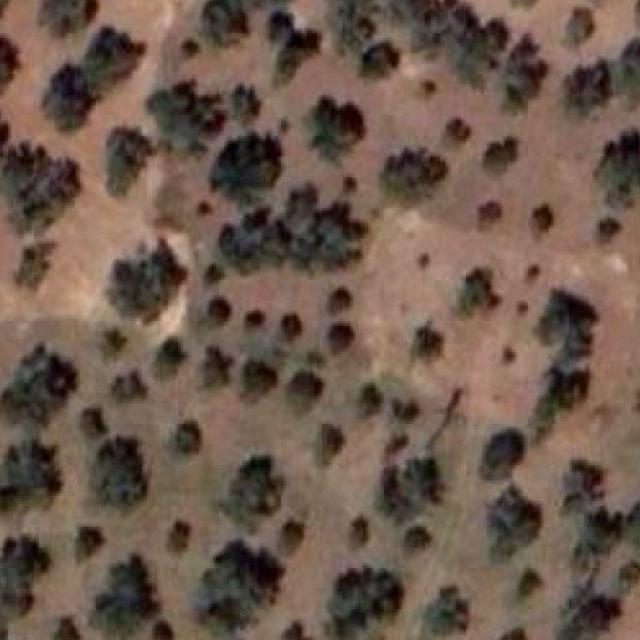Tree: (200, 180, 370, 288), (196, 540, 291, 636), (107, 234, 190, 322), (138, 77, 222, 156), (0, 342, 75, 428), (323, 566, 410, 640), (205, 123, 293, 196), (13, 154, 82, 244), (90, 555, 160, 640), (80, 438, 152, 518), (214, 457, 288, 531), (0, 537, 55, 634), (67, 18, 144, 82), (529, 290, 600, 357), (0, 439, 58, 520), (484, 488, 550, 558), (34, 74, 96, 148), (431, 18, 497, 86), (380, 146, 450, 208), (496, 38, 557, 106), (560, 52, 618, 122), (526, 362, 600, 414), (553, 590, 628, 640), (268, 20, 324, 86), (311, 90, 363, 160), (566, 504, 617, 574), (594, 122, 640, 197), (190, 0, 256, 52), (0, 139, 52, 204), (417, 581, 474, 640), (468, 428, 528, 484), (396, 0, 473, 43), (449, 262, 507, 315), (162, 406, 216, 460), (398, 450, 448, 507), (27, 0, 106, 36), (398, 316, 448, 370), (9, 239, 58, 294), (554, 458, 605, 509), (65, 511, 111, 558), (278, 370, 327, 410), (148, 334, 188, 383), (478, 128, 522, 172), (503, 563, 545, 609), (361, 38, 399, 87), (317, 314, 360, 357), (558, 6, 602, 48), (272, 308, 312, 354), (0, 20, 24, 96), (616, 36, 640, 110), (522, 198, 566, 238), (39, 609, 93, 640), (192, 345, 232, 386), (154, 511, 188, 558), (228, 360, 266, 402), (269, 518, 313, 554), (436, 124, 476, 162), (73, 402, 111, 442), (400, 522, 435, 563), (346, 376, 380, 418), (92, 319, 128, 356), (196, 290, 234, 325), (108, 368, 147, 402), (338, 512, 368, 556), (321, 285, 360, 318), (306, 421, 342, 455), (472, 196, 505, 232), (223, 85, 255, 122), (0, 98, 21, 153), (194, 259, 230, 288), (241, 302, 270, 336), (391, 393, 422, 424), (594, 216, 626, 243), (142, 619, 183, 640), (492, 624, 531, 640), (628, 0, 640, 23)
